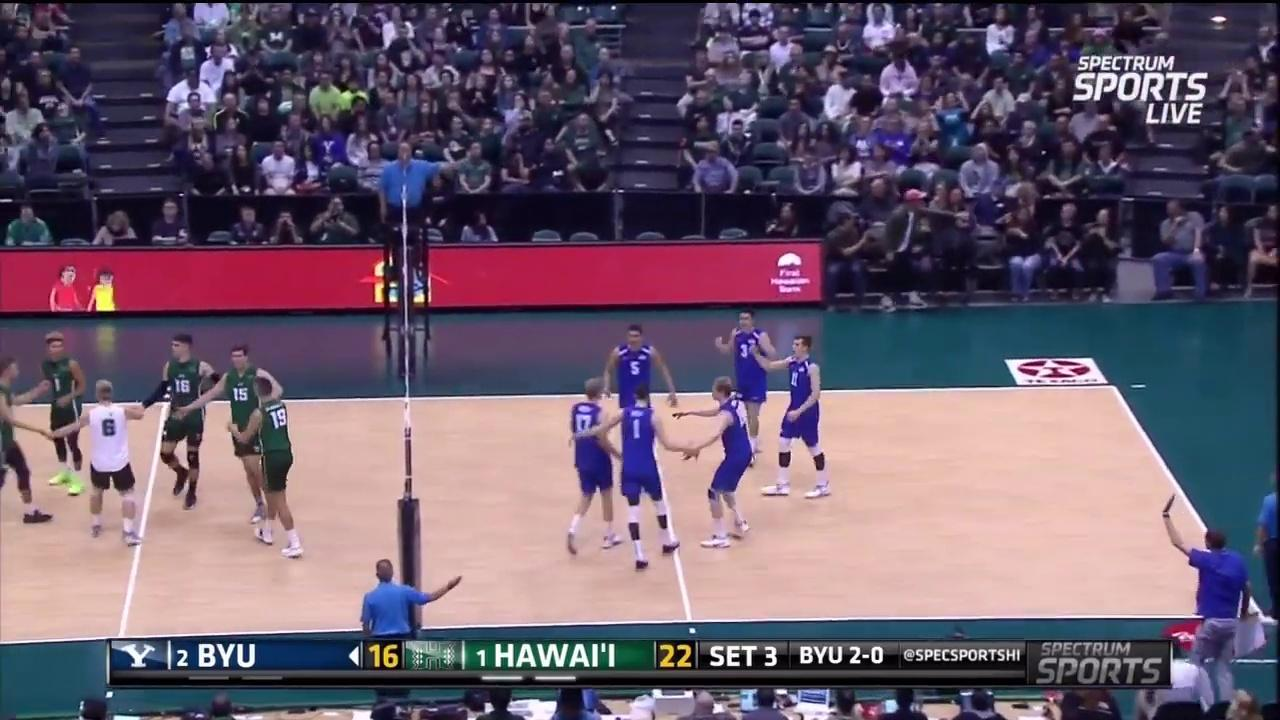player: (604, 388, 688, 574), (137, 335, 218, 513), (75, 373, 143, 545), (689, 376, 757, 547), (0, 351, 63, 533), (246, 375, 307, 561), (768, 334, 832, 499), (564, 377, 624, 550), (720, 299, 778, 470), (223, 341, 276, 524), (604, 319, 678, 449), (35, 325, 88, 495)
refree: (357, 555, 459, 720), (379, 141, 437, 284), (1257, 471, 1280, 614)
